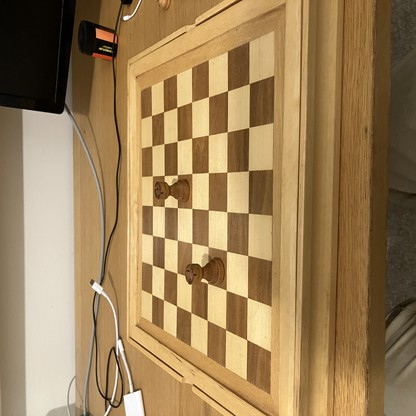rock_black: (187, 259, 225, 284), (155, 181, 190, 201)
